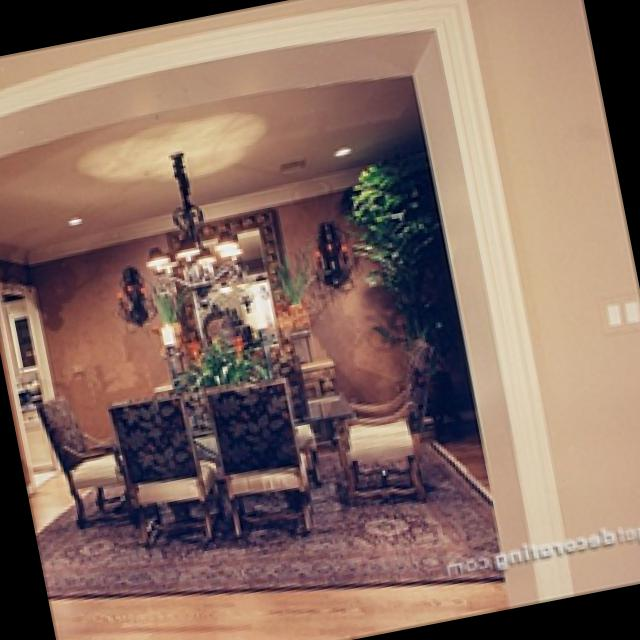buffet: (163, 348, 343, 389)
candle holder: (163, 320, 181, 380)
ceiling beam: (0, 78, 426, 249)
ceiling lamps: (148, 147, 249, 289)
chair -occluded-: (114, 390, 228, 539), (211, 374, 316, 526), (341, 333, 435, 494), (43, 392, 143, 523)
door handle: (0, 275, 60, 485)
lamp crop: (316, 211, 358, 293), (117, 256, 160, 326)
mirror crop: (172, 206, 299, 370)
plant -x: (358, 160, 445, 341), (181, 330, 278, 383), (273, 260, 316, 329)
rug -partially obscured-: (42, 426, 507, 589)
table -X: (108, 389, 360, 448)
wall outlets: (596, 294, 640, 333)
